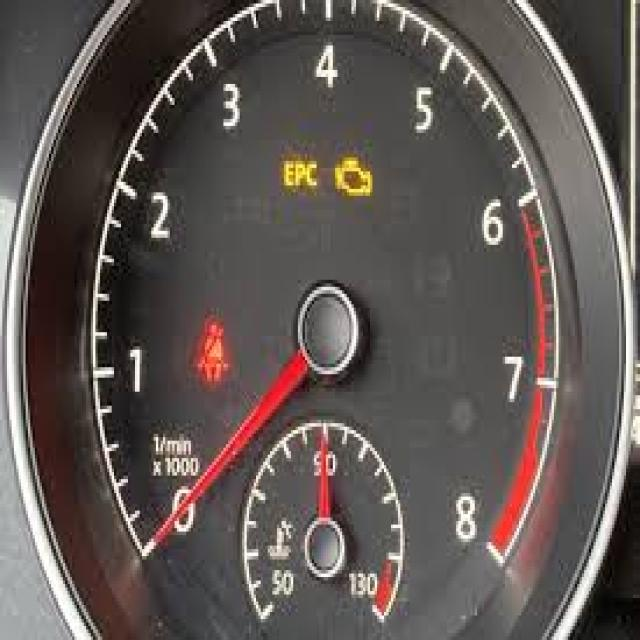kontrolka: (274, 144, 324, 201), (334, 150, 374, 205)
